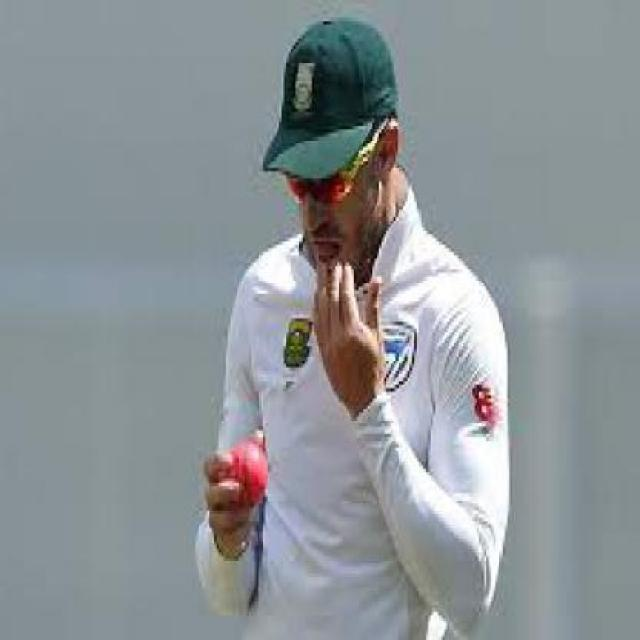ball: (185, 393, 298, 540)
